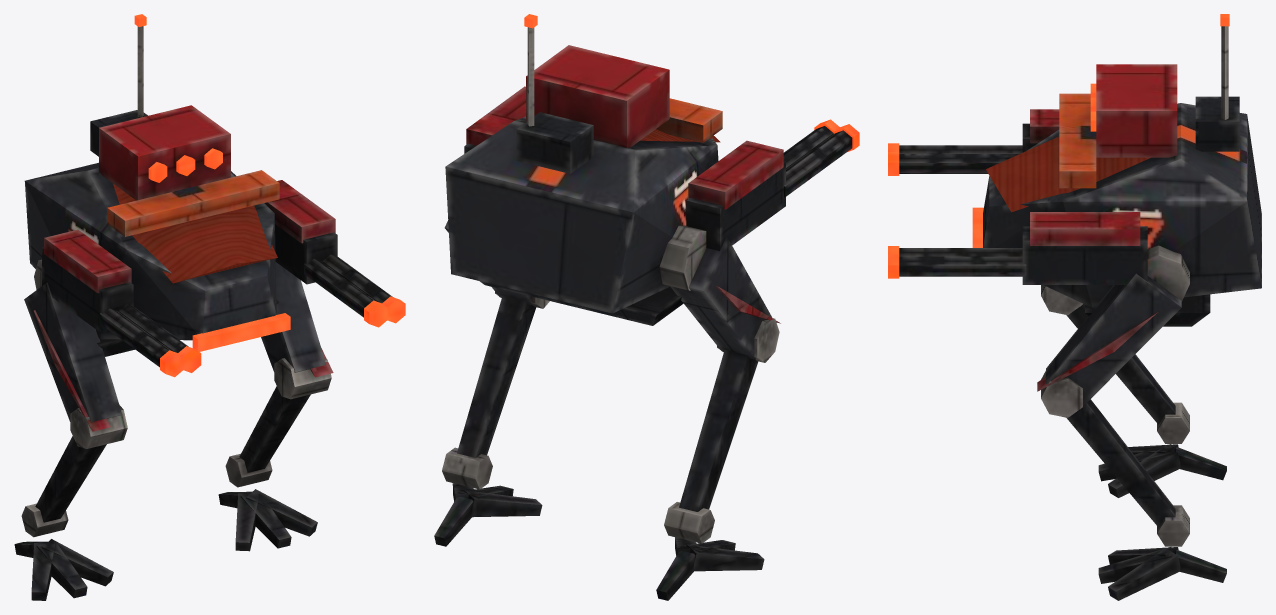
The model's file is u_ranger2_e.glb.
3 views of the same model, side by side, from view 1: azimuth 30°, elevation 25°; view 2: azimuth 150°, elevation 25°; view 3: azimuth 270°, elevation 25° (orthographic). The views are drawn at different scales.
Visible parts, largest first — view 1: u_ranger2_e; view 2: u_ranger2_e; view 3: u_ranger2_e.
Part boxes in pixels (x1,y1,x2,y2): u_ranger2_e: (14, 14, 405, 600); u_ranger2_e: (434, 14, 859, 600); u_ranger2_e: (888, 14, 1261, 600).
Bounding box in the file's own units: 1.04 × 1.76 × 1.14.
Materials: 1 (1 with a texture image).
